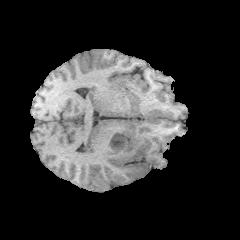glioma: (107, 118, 150, 183)
